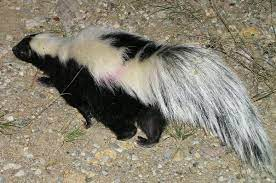skunk: (10, 30, 272, 169)
